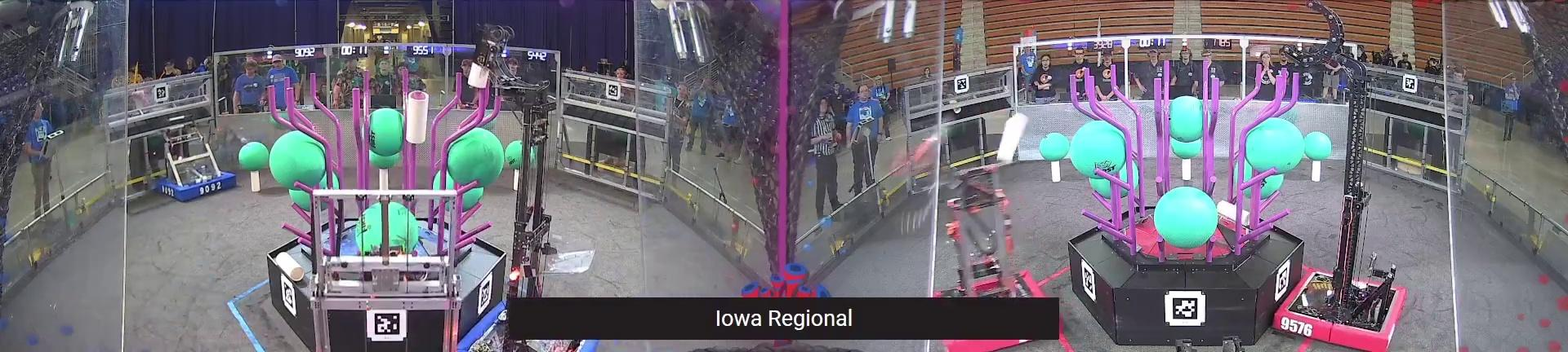coral: (407, 90, 429, 144), (1217, 199, 1250, 225), (277, 252, 305, 282)
reef: (264, 69, 506, 352), (1069, 59, 1306, 344)
robot: (1272, 0, 1409, 352), (456, 22, 600, 352), (928, 162, 1066, 352), (311, 188, 463, 352), (156, 113, 237, 204)
